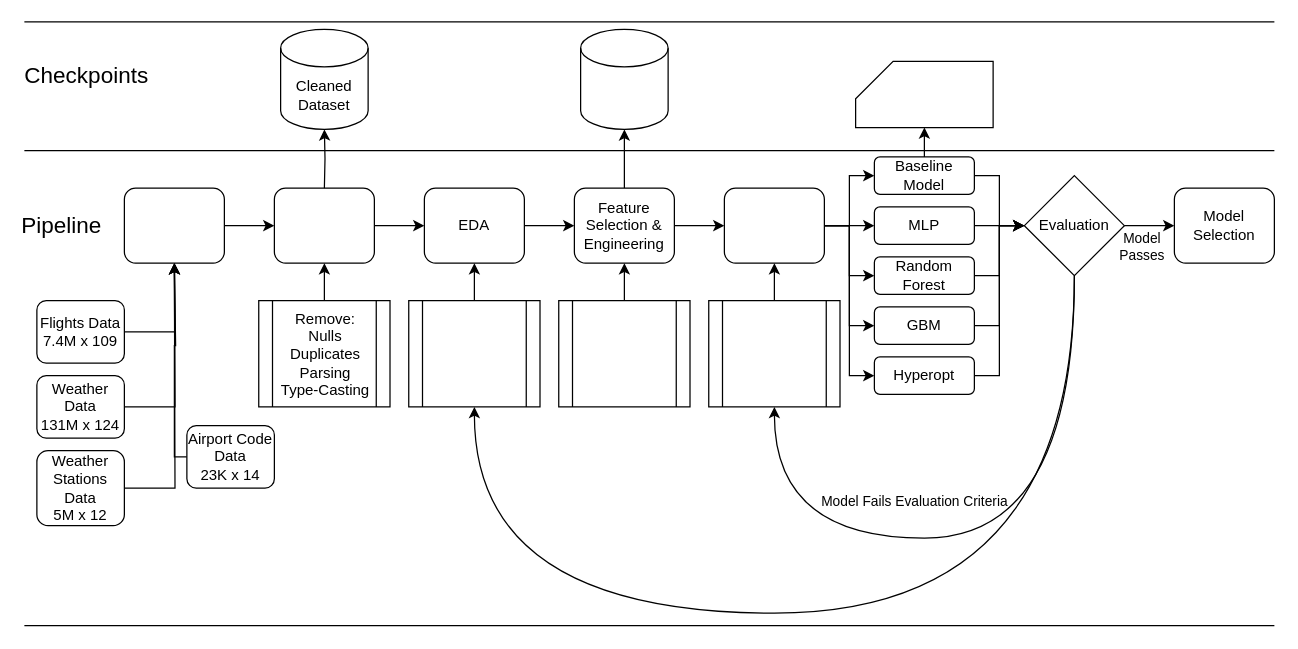
The diagram is 1298 pixels wide and 649 high, and some of its shapes have lost their labels. The centre of each missing label's shape, as x and y in pixels:
Assess: Distributions Normality Correlations Statistics: [474,353]
Create: Flight History PageRank Seasonality Masking: [624,353]
Data Cleaning: [323,225]
Feature Engineered Dataset: [623,78]
Loss Functions: MSE MAE R²: [774,353]
Model Checkpoints: [923,94]
Model Training: [773,225]
OTPW Dataset: [173,225]
